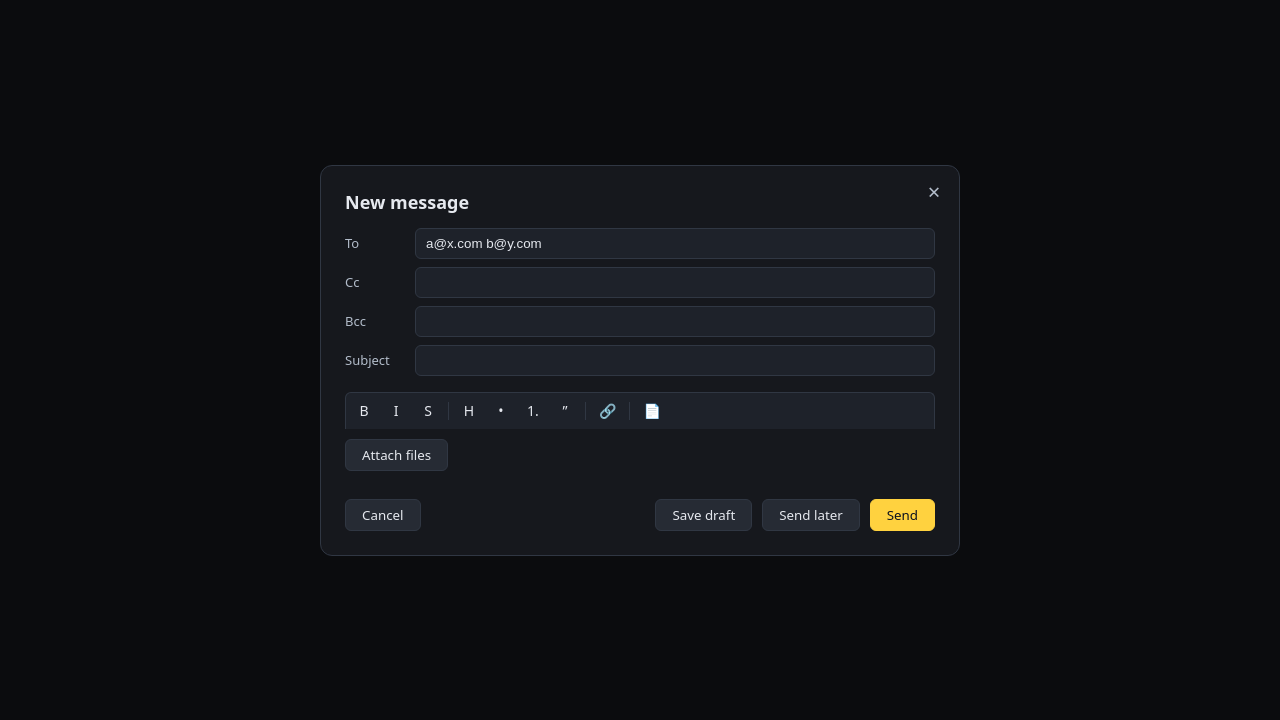
it: ComposeModal: separator correction › dismisses the correction
Click the button "Send": point(902, 514) left=870, top=498, right=935, bottom=530
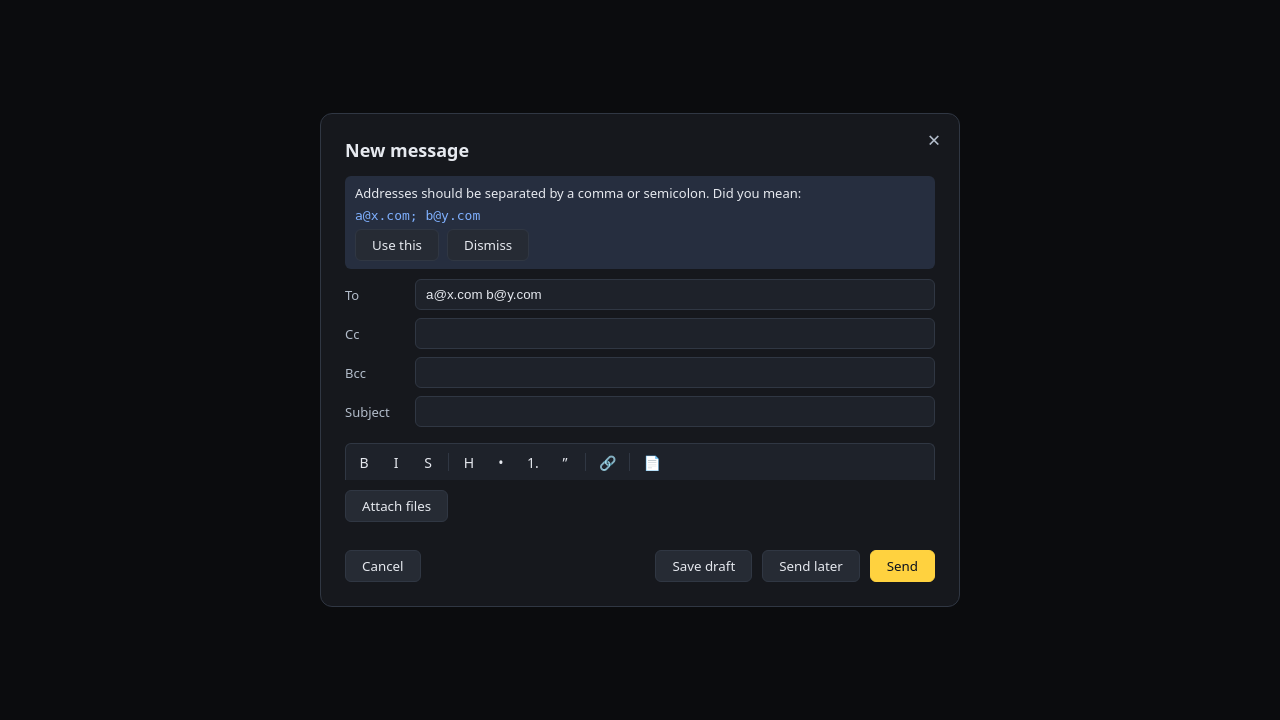
Click the button "Dismiss": point(488, 245) left=447, top=229, right=529, bottom=261
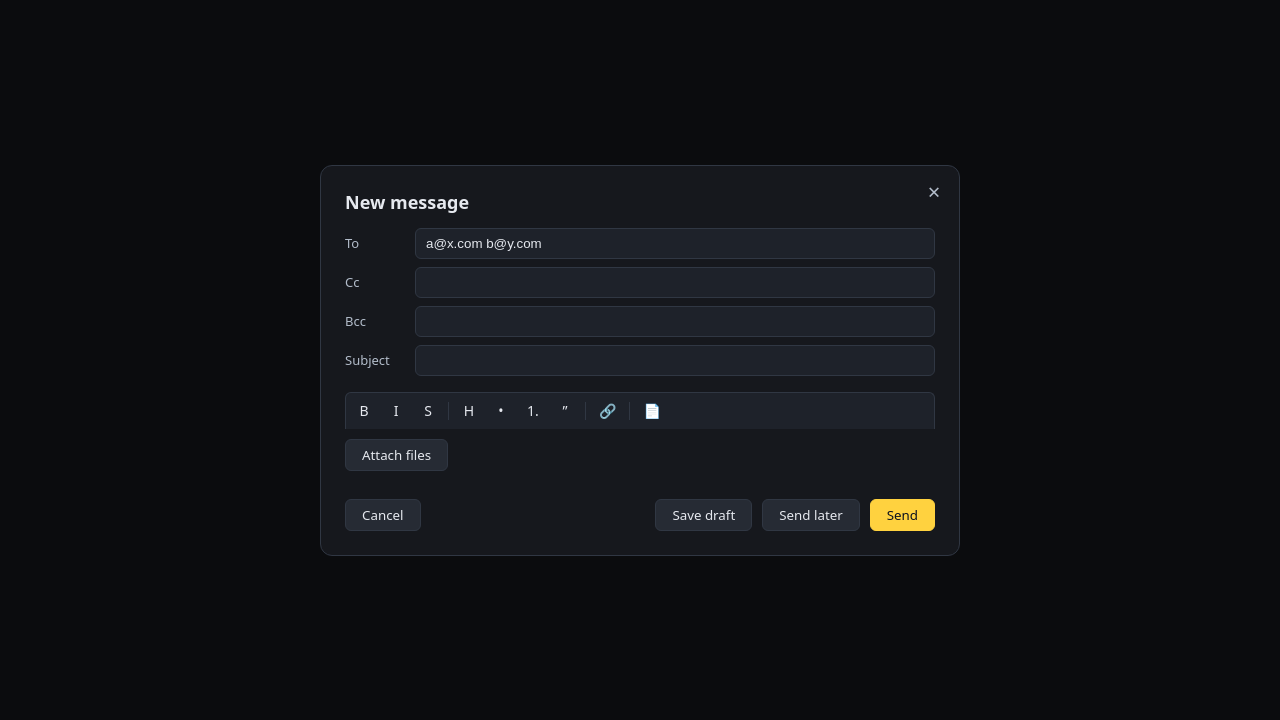
Now the text "Addresses should be separated" is gone
